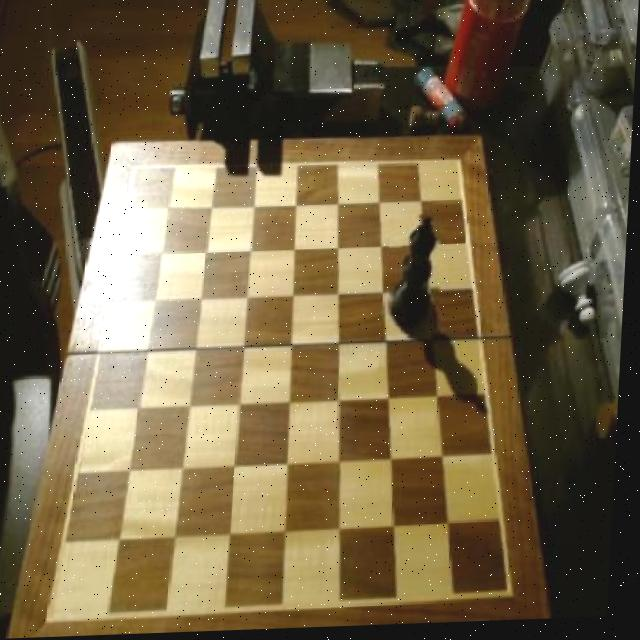black-bishop: (389, 217, 448, 342)
